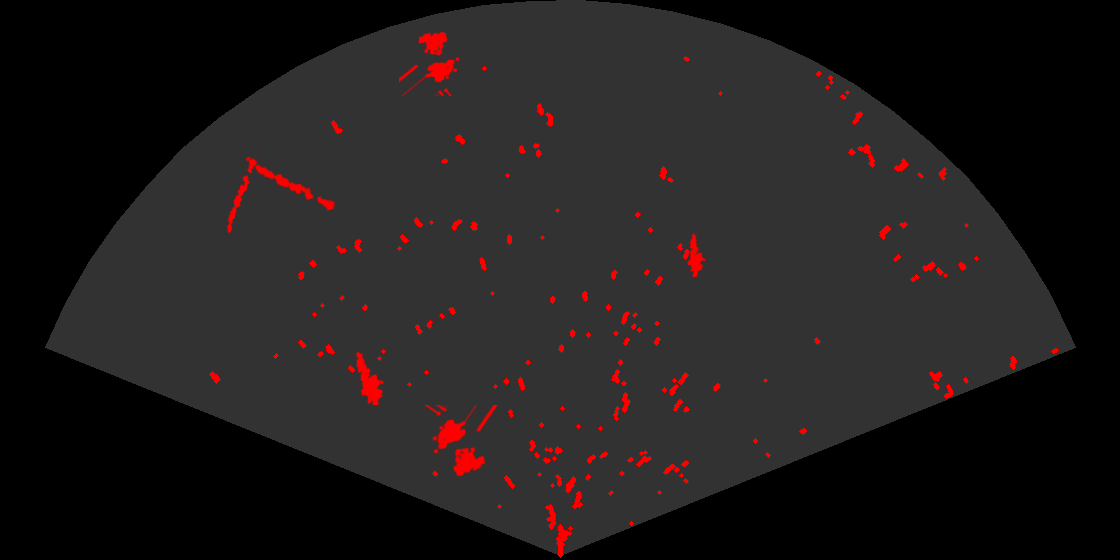cage: (422, 405, 500, 478), (399, 30, 461, 96)
chain: (244, 155, 340, 213), (225, 151, 259, 235)
frogman: (355, 350, 386, 405), (686, 232, 708, 277)
